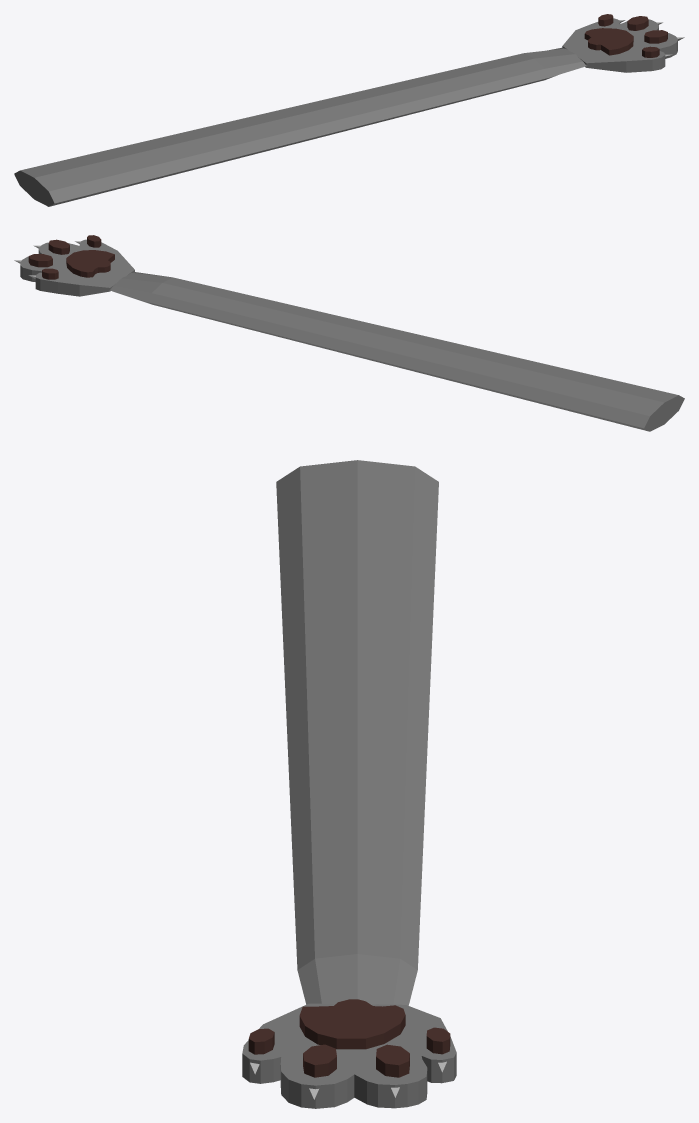
Rendered from lapka1.fbx.
3 views of the same model, one above another, from view 1: azimuth 30°, elevation 25°; view 2: azimuth 150°, elevation 25°; view 3: azimuth 270°, elevation 25° (orthographic). The views are drawn at different scales.
Visible parts, largest first — view 1: Circle.027; view 2: Circle.027; view 3: Circle.027.
Boxes of the visible parts, x1=… form: Circle.027: x1=14, y1=14, x2=684, y2=206; Circle.027: x1=14, y1=235, x2=684, y2=431; Circle.027: x1=242, y1=460, x2=456, y2=1108.
Bounding box in the file's own units: 159 × 5.53 × 23.03.
